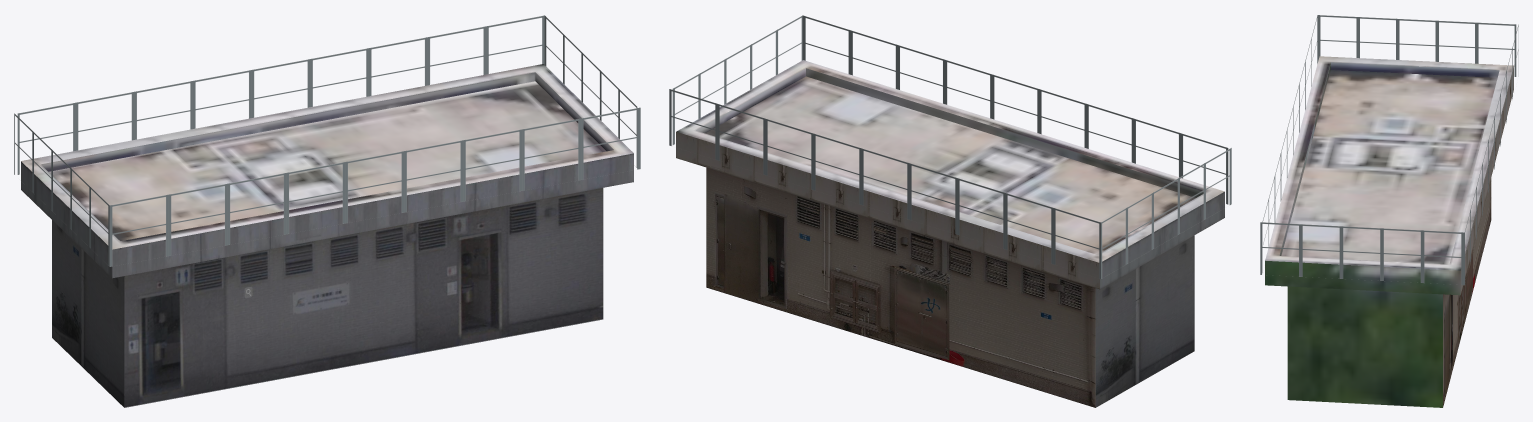
The picture shows the model from 3 angles, left to right: view 1: azimuth 30°, elevation 25°; view 2: azimuth 150°, elevation 25°; view 3: azimuth 270°, elevation 25°; orthographic projection. The views are drawn at different scales.
Parts seen in each view (by area): view 1: B287624043101062A0; view 2: B287624043101062A0; view 3: B287624043101062A0.
Part boxes in pixels (x1,y1,x2,y2): B287624043101062A0: (14, 15, 640, 407); B287624043101062A0: (669, 15, 1231, 407); B287624043101062A0: (1260, 15, 1518, 407).
Bounding box in the file's own units: 11.85 × 4.73 × 5.92.
2 materials, 2 textured.
